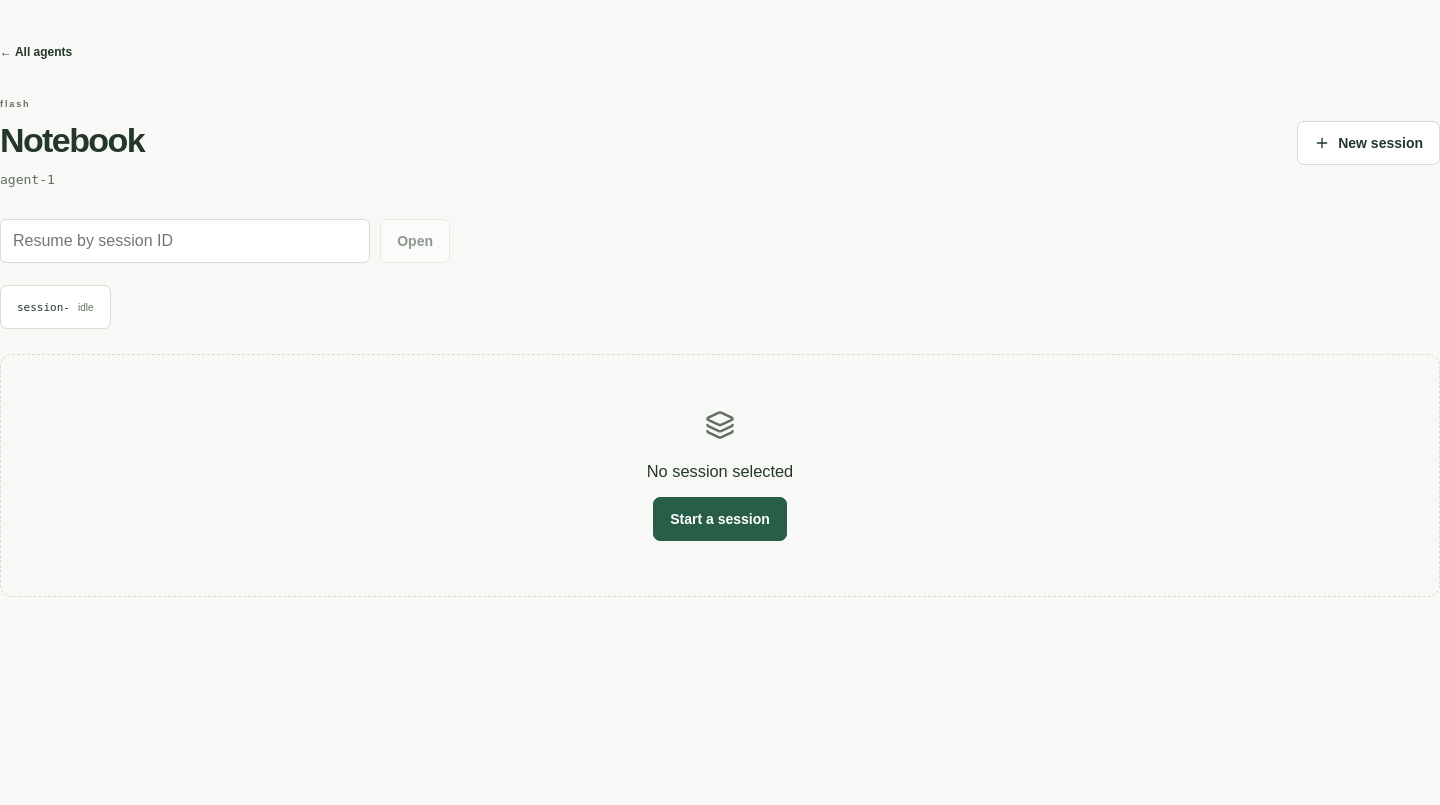
Test: Responses conversation › does not silently retry or turn a rejected Responses request into steering
The width and height of the screenshot is (1440, 805).
Click the button "session- idle": (55,307) [0,285,111,329]
(page scrolled)
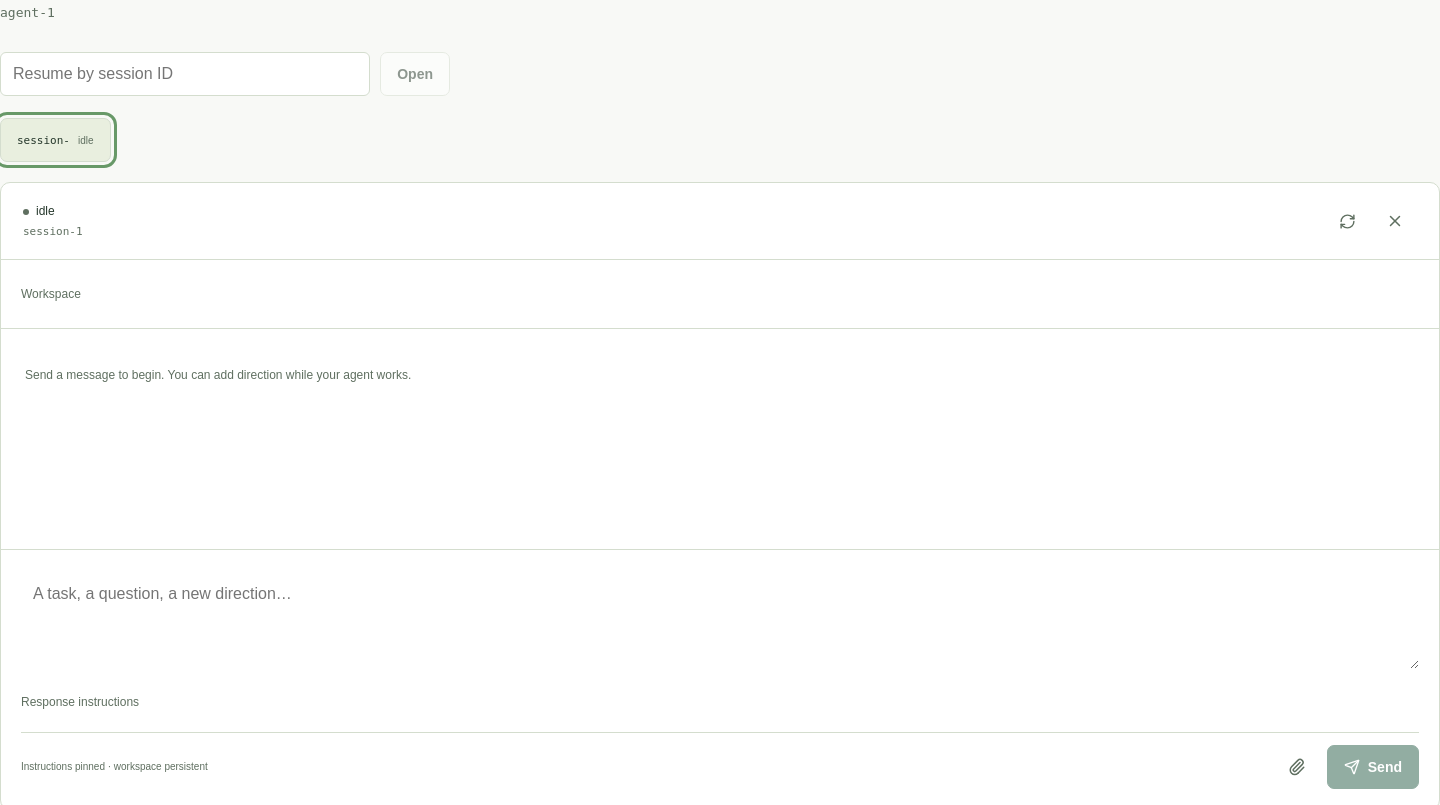
In the text box named "Message or steering instruction": (720,619) [21,570,1419,669], type "A task"
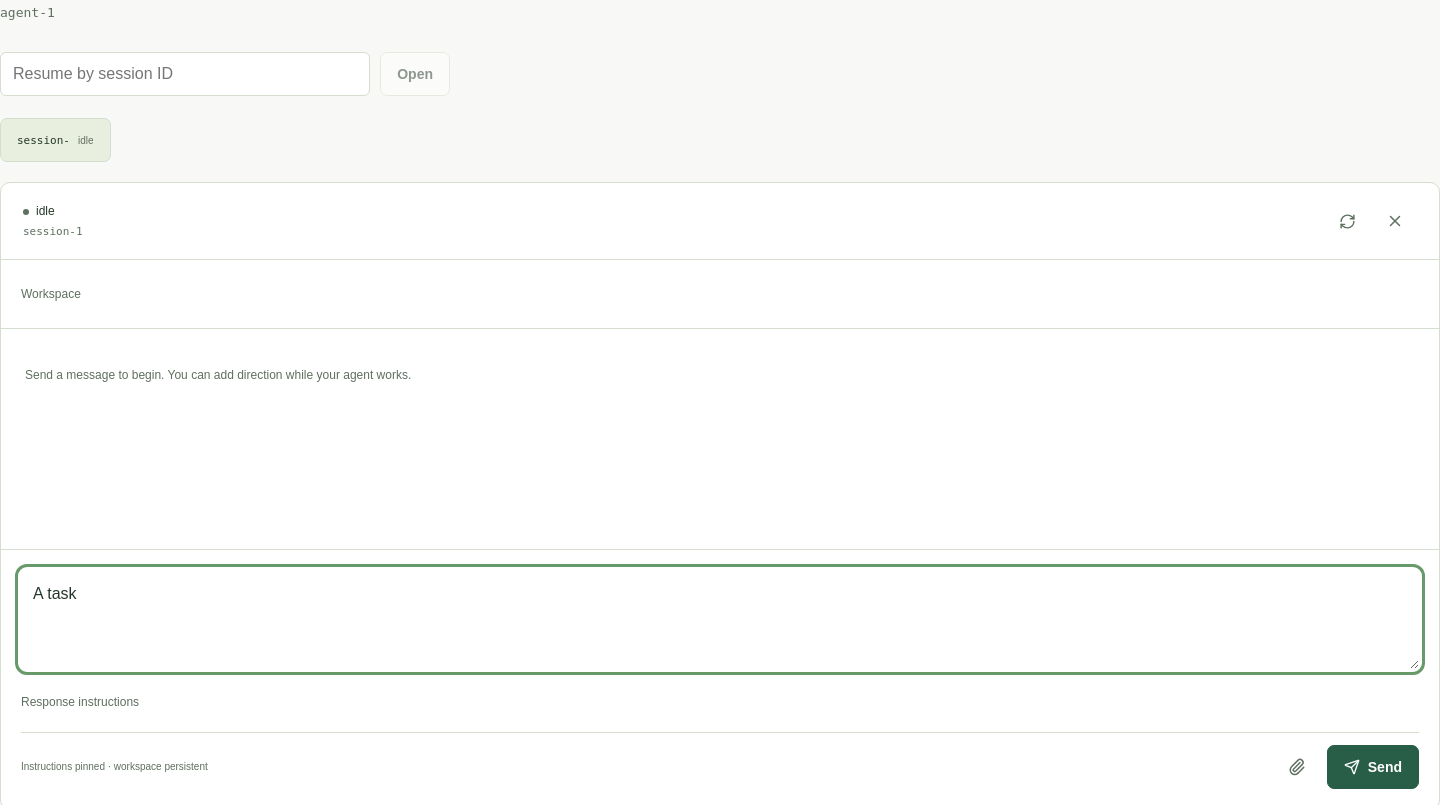
Click the button "Send": (1373,767) [1327,745,1419,789]
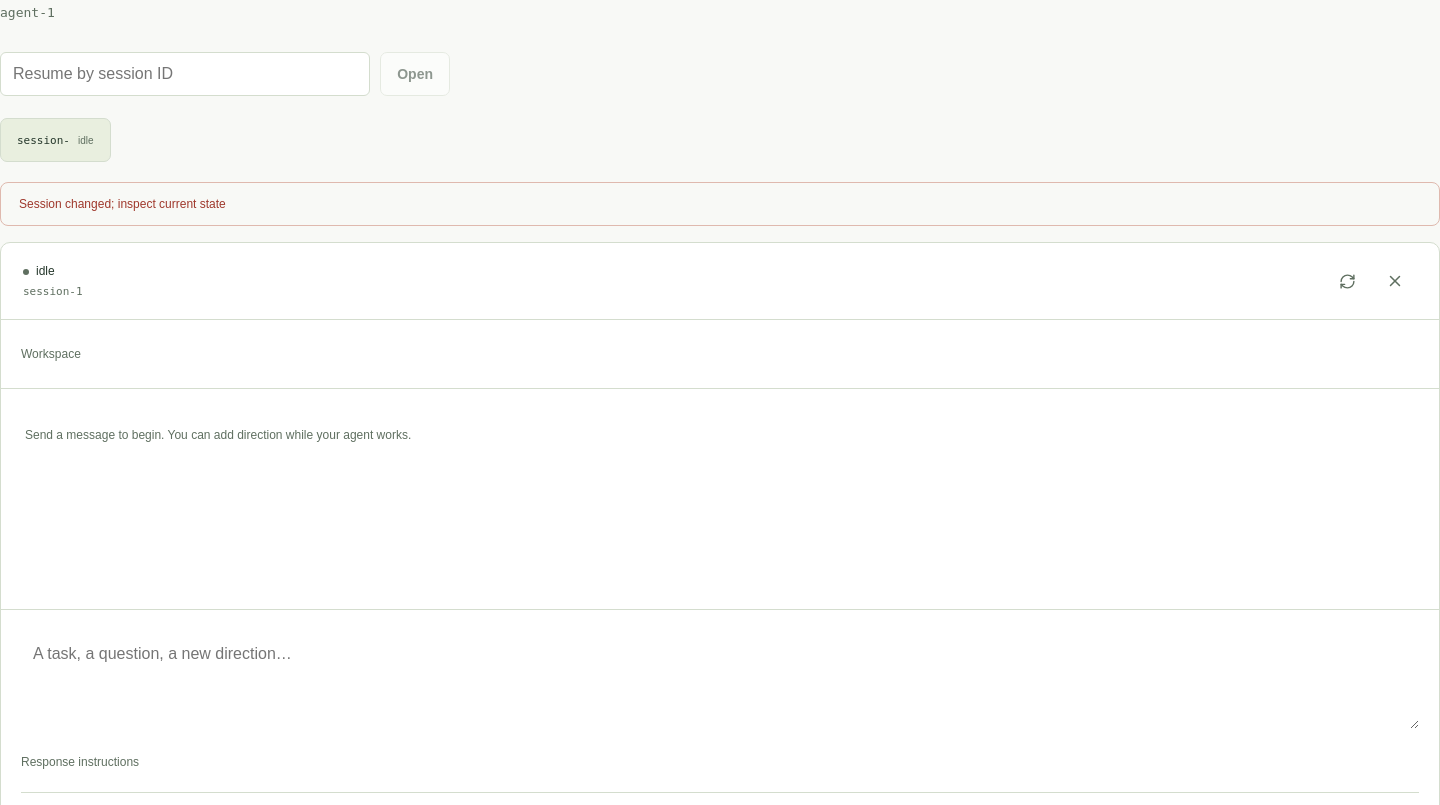
Expected: the message shows "Session changed", [19,197,226,211]
